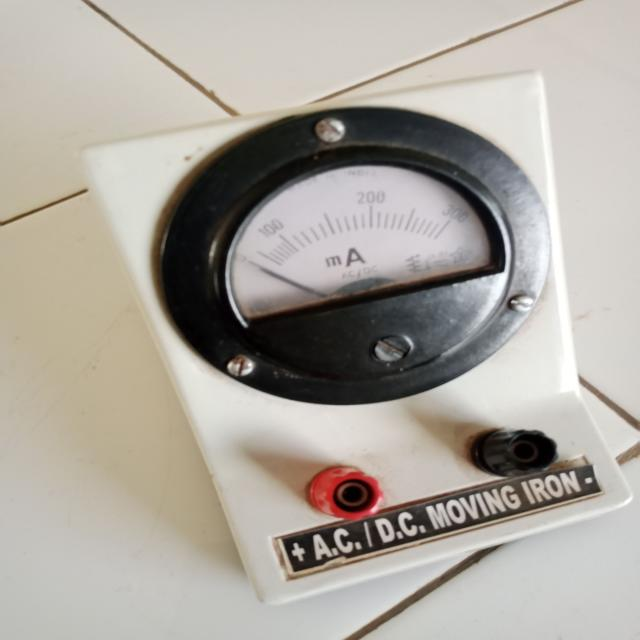Ammeter Analog: (56, 77, 629, 579)
